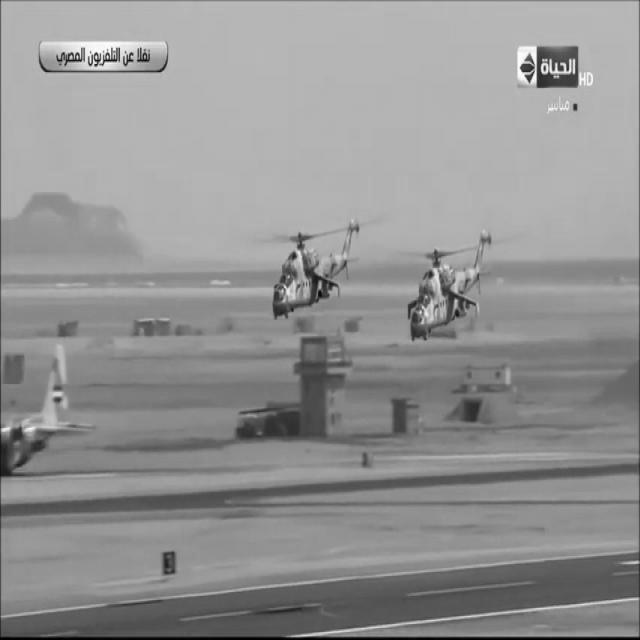helikopter: (254, 206, 366, 318), (396, 235, 500, 348)
